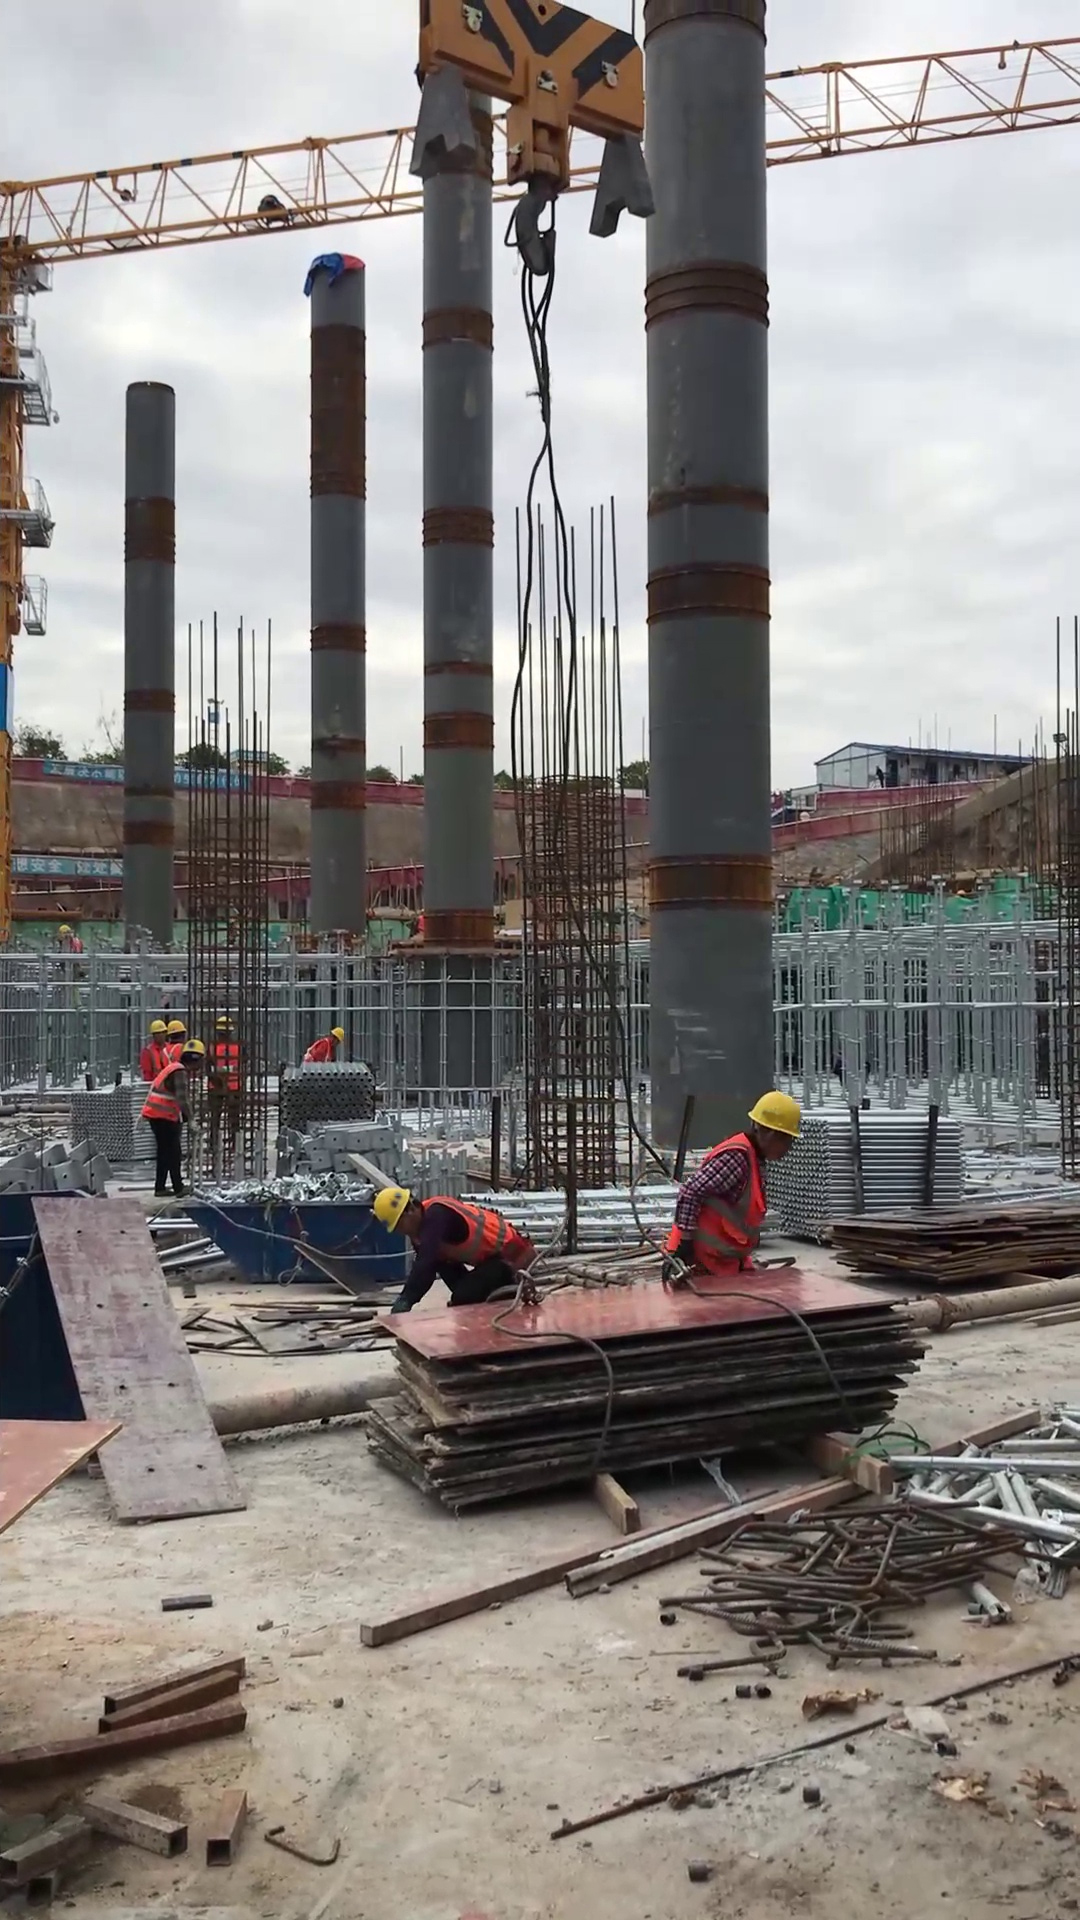helmet: (744, 1087, 809, 1145), (373, 1179, 413, 1238), (179, 1037, 208, 1064), (144, 1018, 170, 1039), (160, 1019, 186, 1038), (328, 1025, 345, 1048)
person: (657, 1086, 815, 1297), (365, 1178, 545, 1320), (137, 1035, 214, 1204), (134, 1012, 167, 1085), (299, 1022, 349, 1068), (162, 1018, 191, 1079)
vest: (669, 1133, 763, 1281), (419, 1192, 539, 1279), (142, 1063, 190, 1127), (138, 1040, 165, 1082), (300, 1034, 334, 1065), (161, 1039, 185, 1067)
